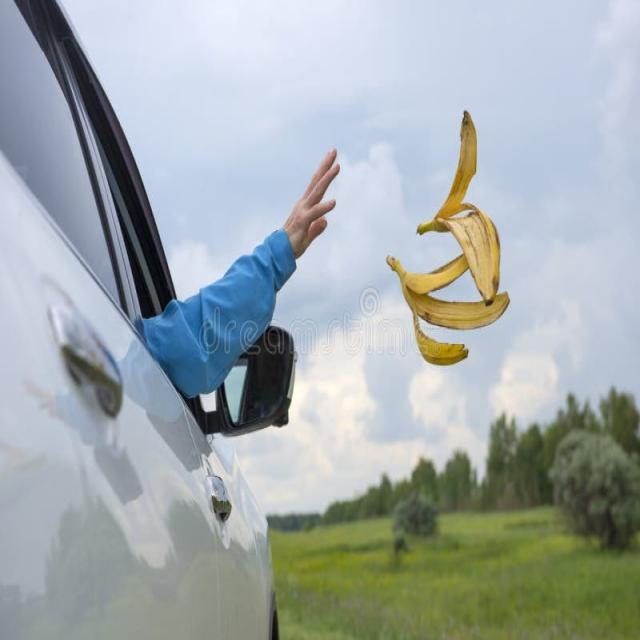banana_peel: (351, 238, 531, 429), (409, 58, 544, 292)
